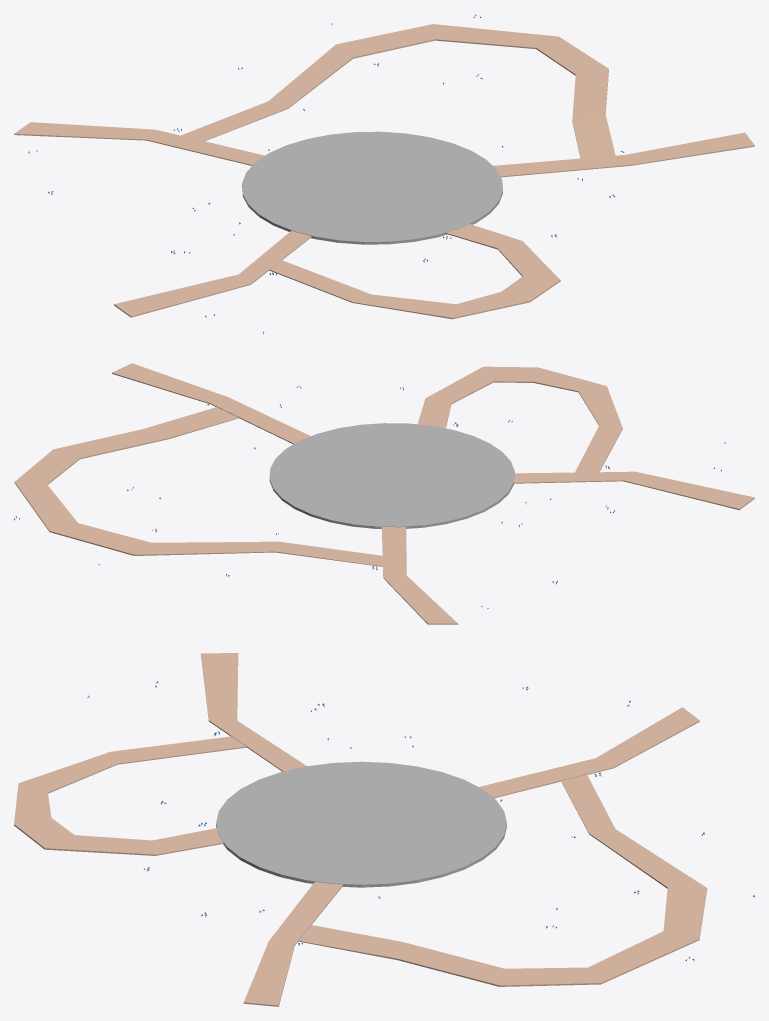
The model's file is Town Details, Updated 3-3.fbx.
The picture shows the model from 3 angles, top to bottom: view 1: azimuth 30°, elevation 25°; view 2: azimuth 150°, elevation 25°; view 3: azimuth 270°, elevation 25°; orthographic projection. The views are drawn at different scales.
Visible parts, largest first — view 1: Cube.002, Town Center Area; view 2: Cube.002, Town Center Area; view 3: Cube.002, Town Center Area.
Boxes of the visible parts, x1,y1,x2,y2 form: Cube.002: (14,24,754,319); Town Center Area: (242,131,502,244); Cube.002: (14,363,754,624); Town Center Area: (269,423,514,528); Cube.002: (14,653,707,1006); Town Center Area: (216,761,506,887).
Size of the model in its own units: 5366 by 33.09 by 4767.
